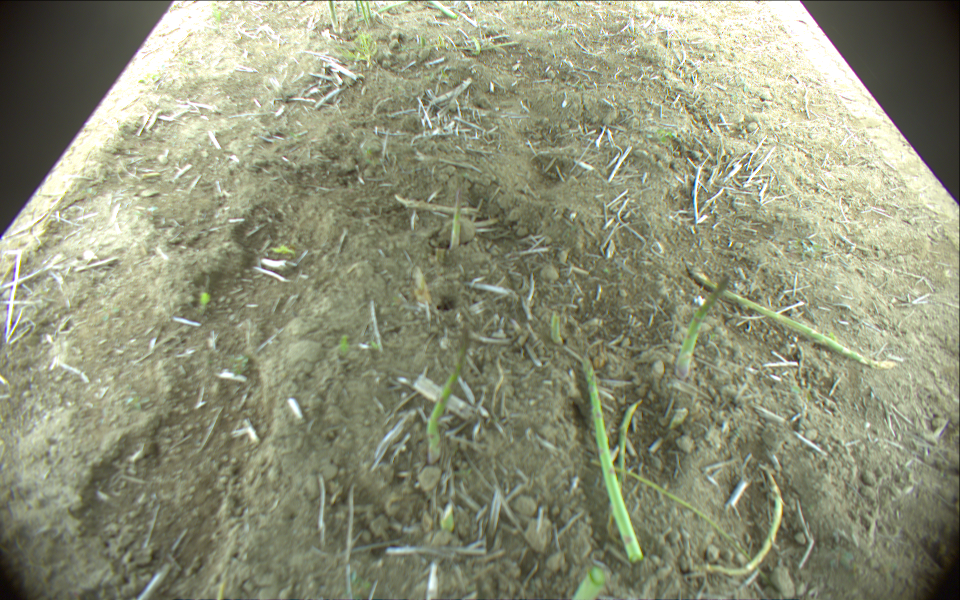aspa: (684, 260, 895, 371), (586, 458, 757, 560), (584, 353, 642, 559), (707, 464, 785, 577), (425, 326, 471, 466), (675, 274, 730, 379), (616, 400, 642, 486), (360, 1, 412, 24), (575, 566, 605, 600), (450, 190, 463, 255), (429, 1, 455, 19), (550, 310, 563, 345), (328, 1, 337, 23), (360, 1, 367, 22), (367, 1, 374, 21), (352, 1, 360, 14)
